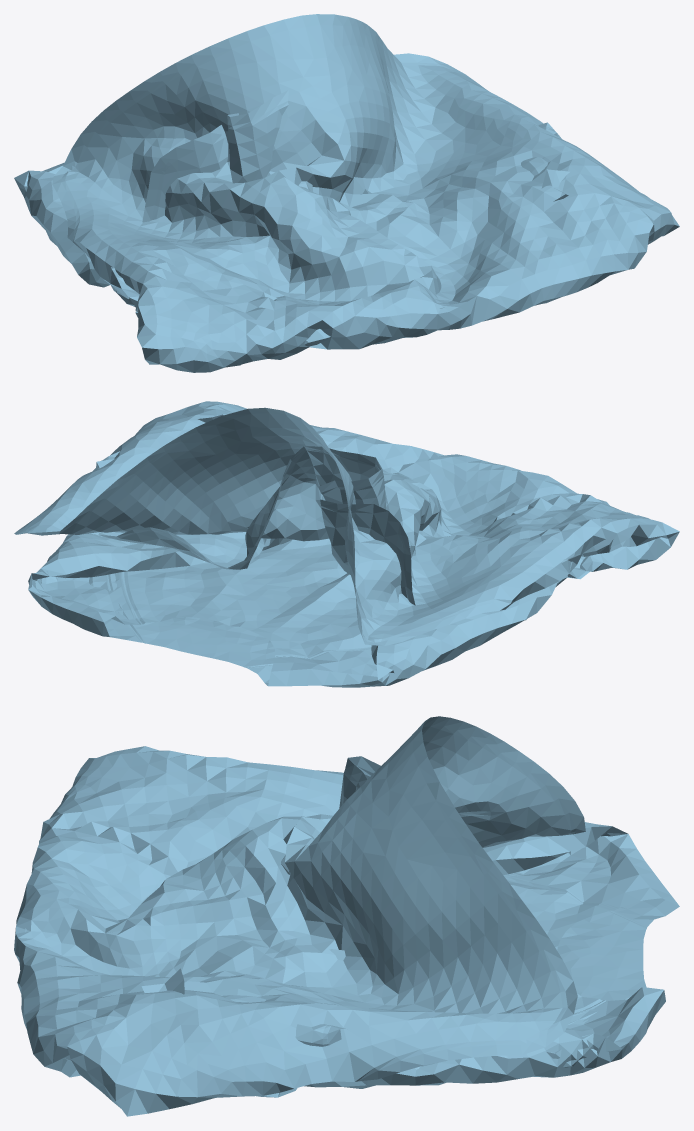
Rendered from frame_20.glb.
3 views of the same model, one above another, from view 1: azimuth 30°, elevation 25°; view 2: azimuth 150°, elevation 25°; view 3: azimuth 270°, elevation 25° (orthographic). The views are drawn at different scales.
Visible parts, largest first — view 1: frame_20.obj; view 2: frame_20.obj; view 3: frame_20.obj.
Part boxes in pixels (bbox=[...]): frame_20.obj: bbox=[14, 14, 679, 372]; frame_20.obj: bbox=[14, 401, 679, 687]; frame_20.obj: bbox=[14, 716, 679, 1116].
Bounding box in the file's own units: 1.17 × 0.4101 × 1.
